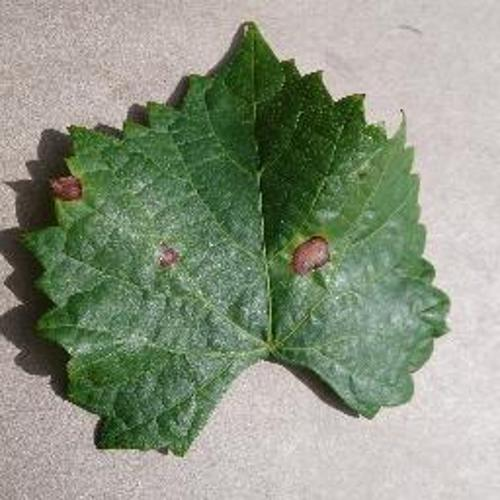Grape: (20, 22, 449, 455)
